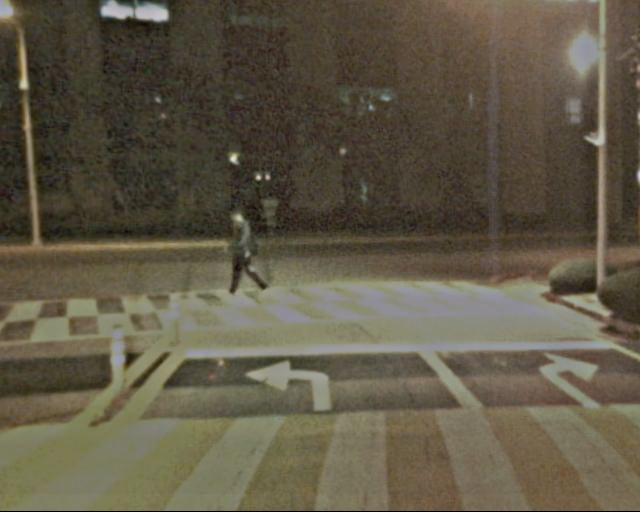person: (223, 207, 264, 307)
